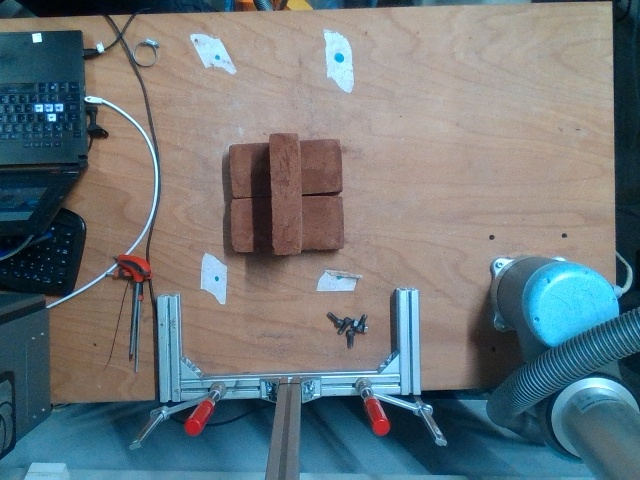brick-side: (268, 131, 302, 254)
